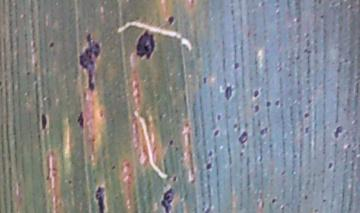tarspot: (75, 24, 104, 99), (132, 29, 160, 63), (89, 180, 112, 213), (154, 184, 179, 213), (70, 107, 88, 133), (36, 109, 50, 133), (222, 81, 237, 103), (329, 123, 346, 140), (164, 12, 178, 29), (238, 129, 251, 147), (249, 101, 263, 115), (203, 159, 216, 173), (210, 126, 222, 141), (325, 158, 337, 173), (258, 124, 270, 139), (272, 95, 283, 111), (231, 59, 243, 72), (250, 87, 262, 100), (300, 192, 313, 204), (205, 147, 217, 159), (168, 173, 181, 184), (22, 66, 33, 79), (164, 137, 178, 147), (301, 109, 312, 121), (304, 96, 316, 107), (108, 162, 119, 174), (262, 99, 272, 112), (64, 176, 75, 187), (214, 110, 224, 122), (200, 74, 209, 87), (230, 120, 241, 130), (236, 148, 247, 158), (318, 196, 331, 204), (46, 39, 55, 50), (269, 194, 278, 205)
